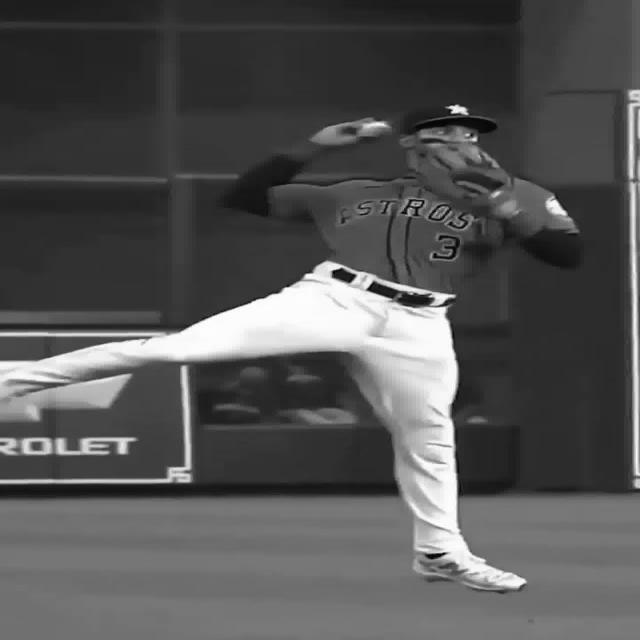baseball: (355, 120, 391, 138)
baseball_glove: (400, 135, 514, 217)
shoe: (412, 552, 528, 592)
